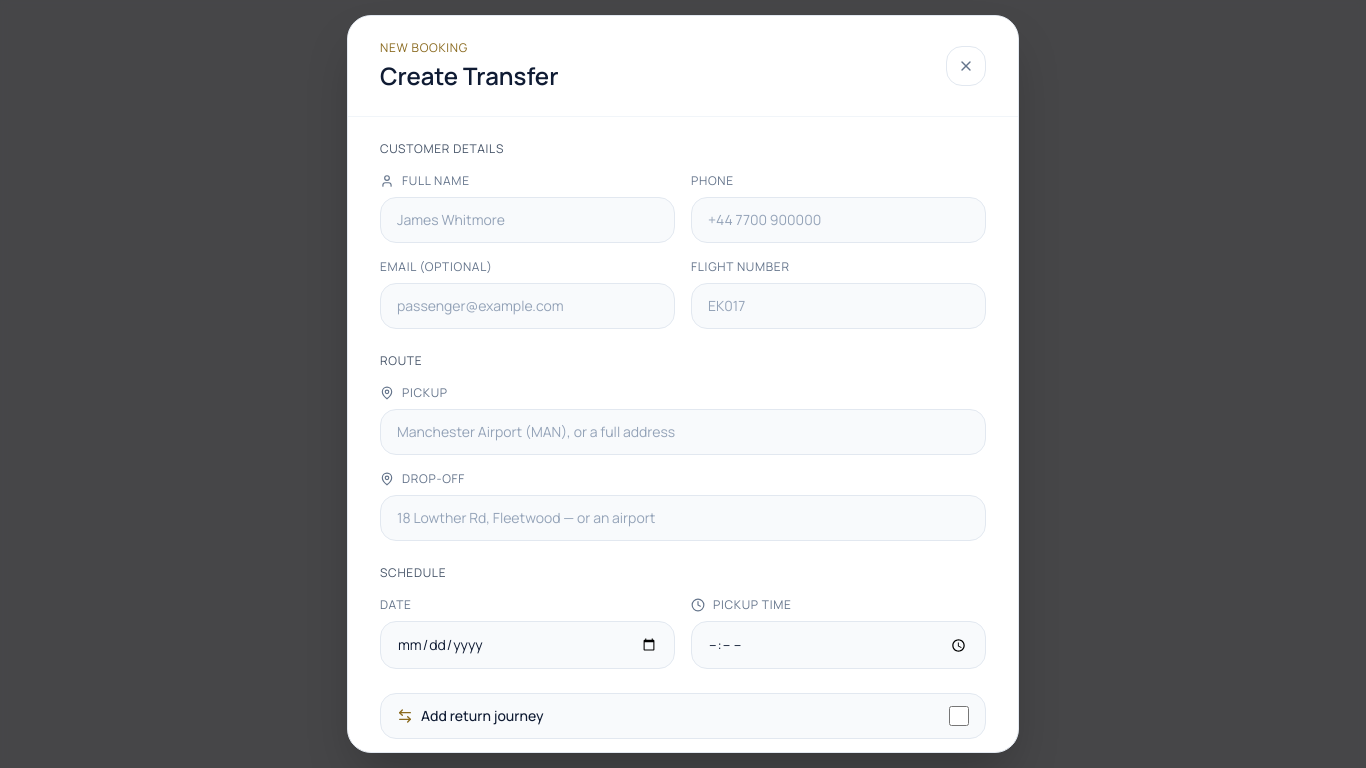
Test: BookingModal — suggested price › switches to the whole return fare when the return journey is ticked
Type "Manchester Airport" into the field with placeholder "Manchester Airport (MAN), or a full address" at (683, 432), box [380,409,986,455]
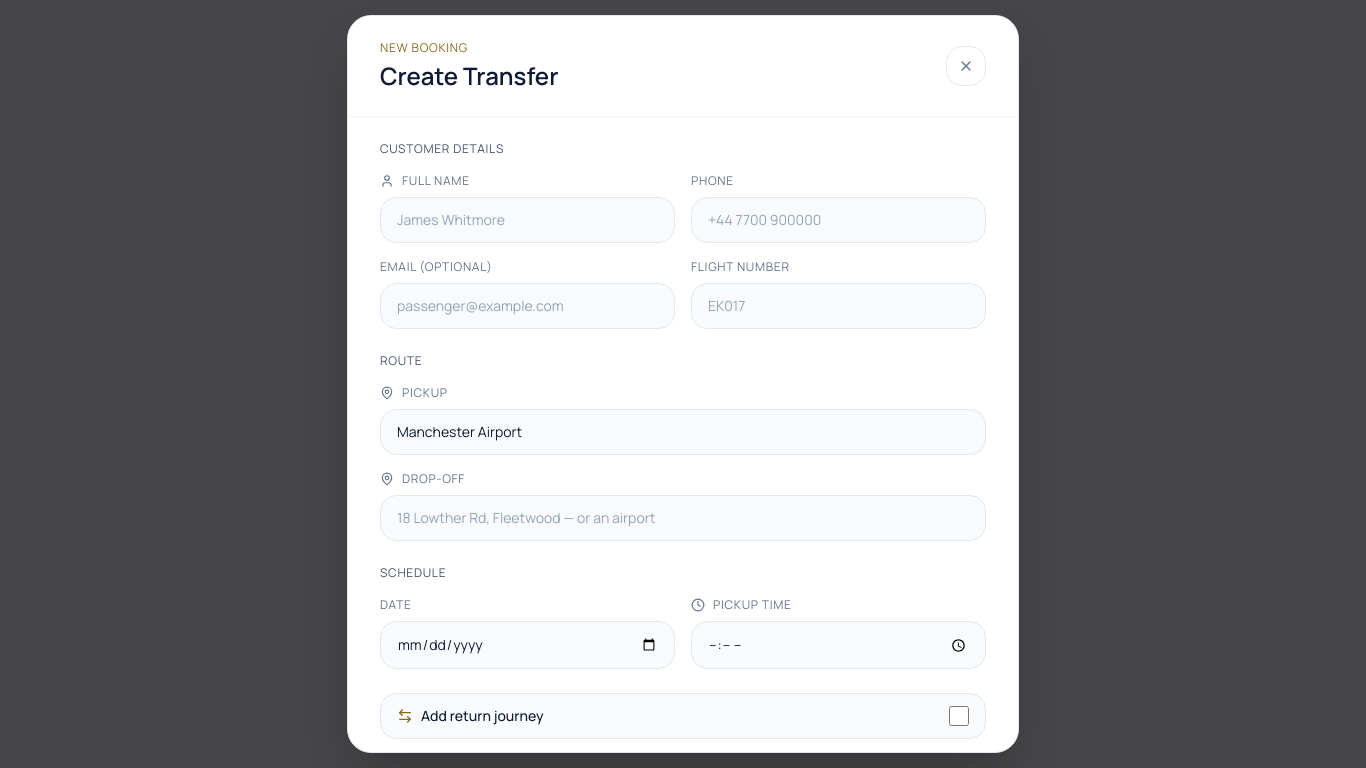
Click the checkbox at (959, 716), box [949,706,969,726]
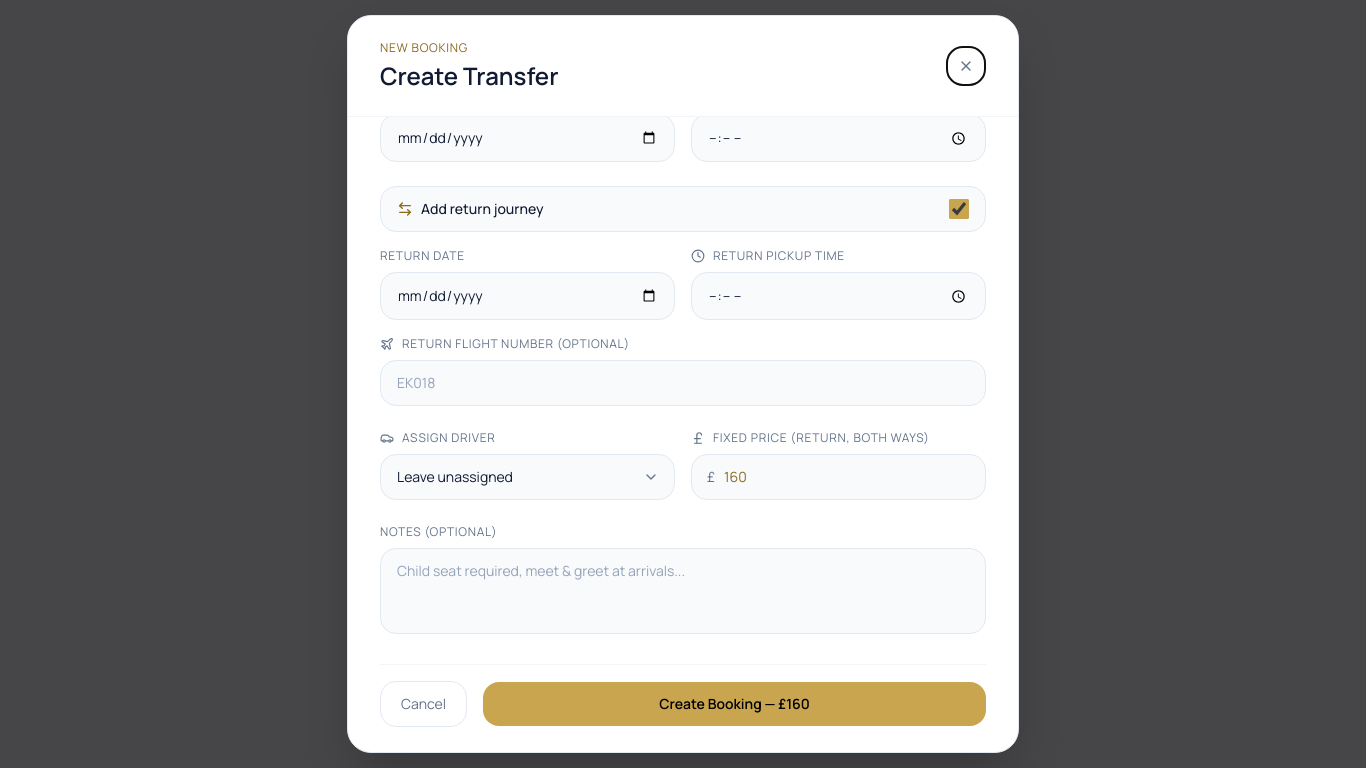
Expected: the number field with placeholder "0" holds "160", [691,454,986,500]
